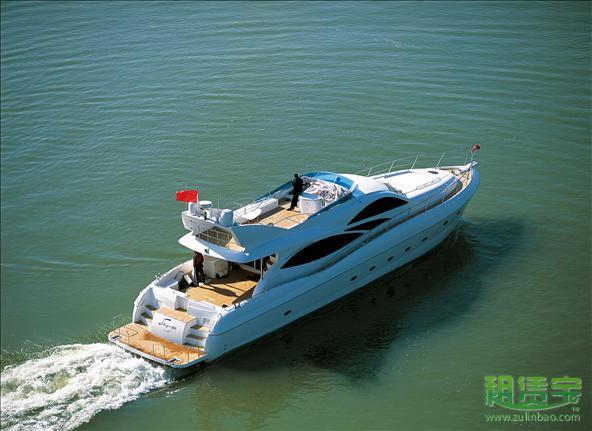yacht: (105, 141, 484, 370)
